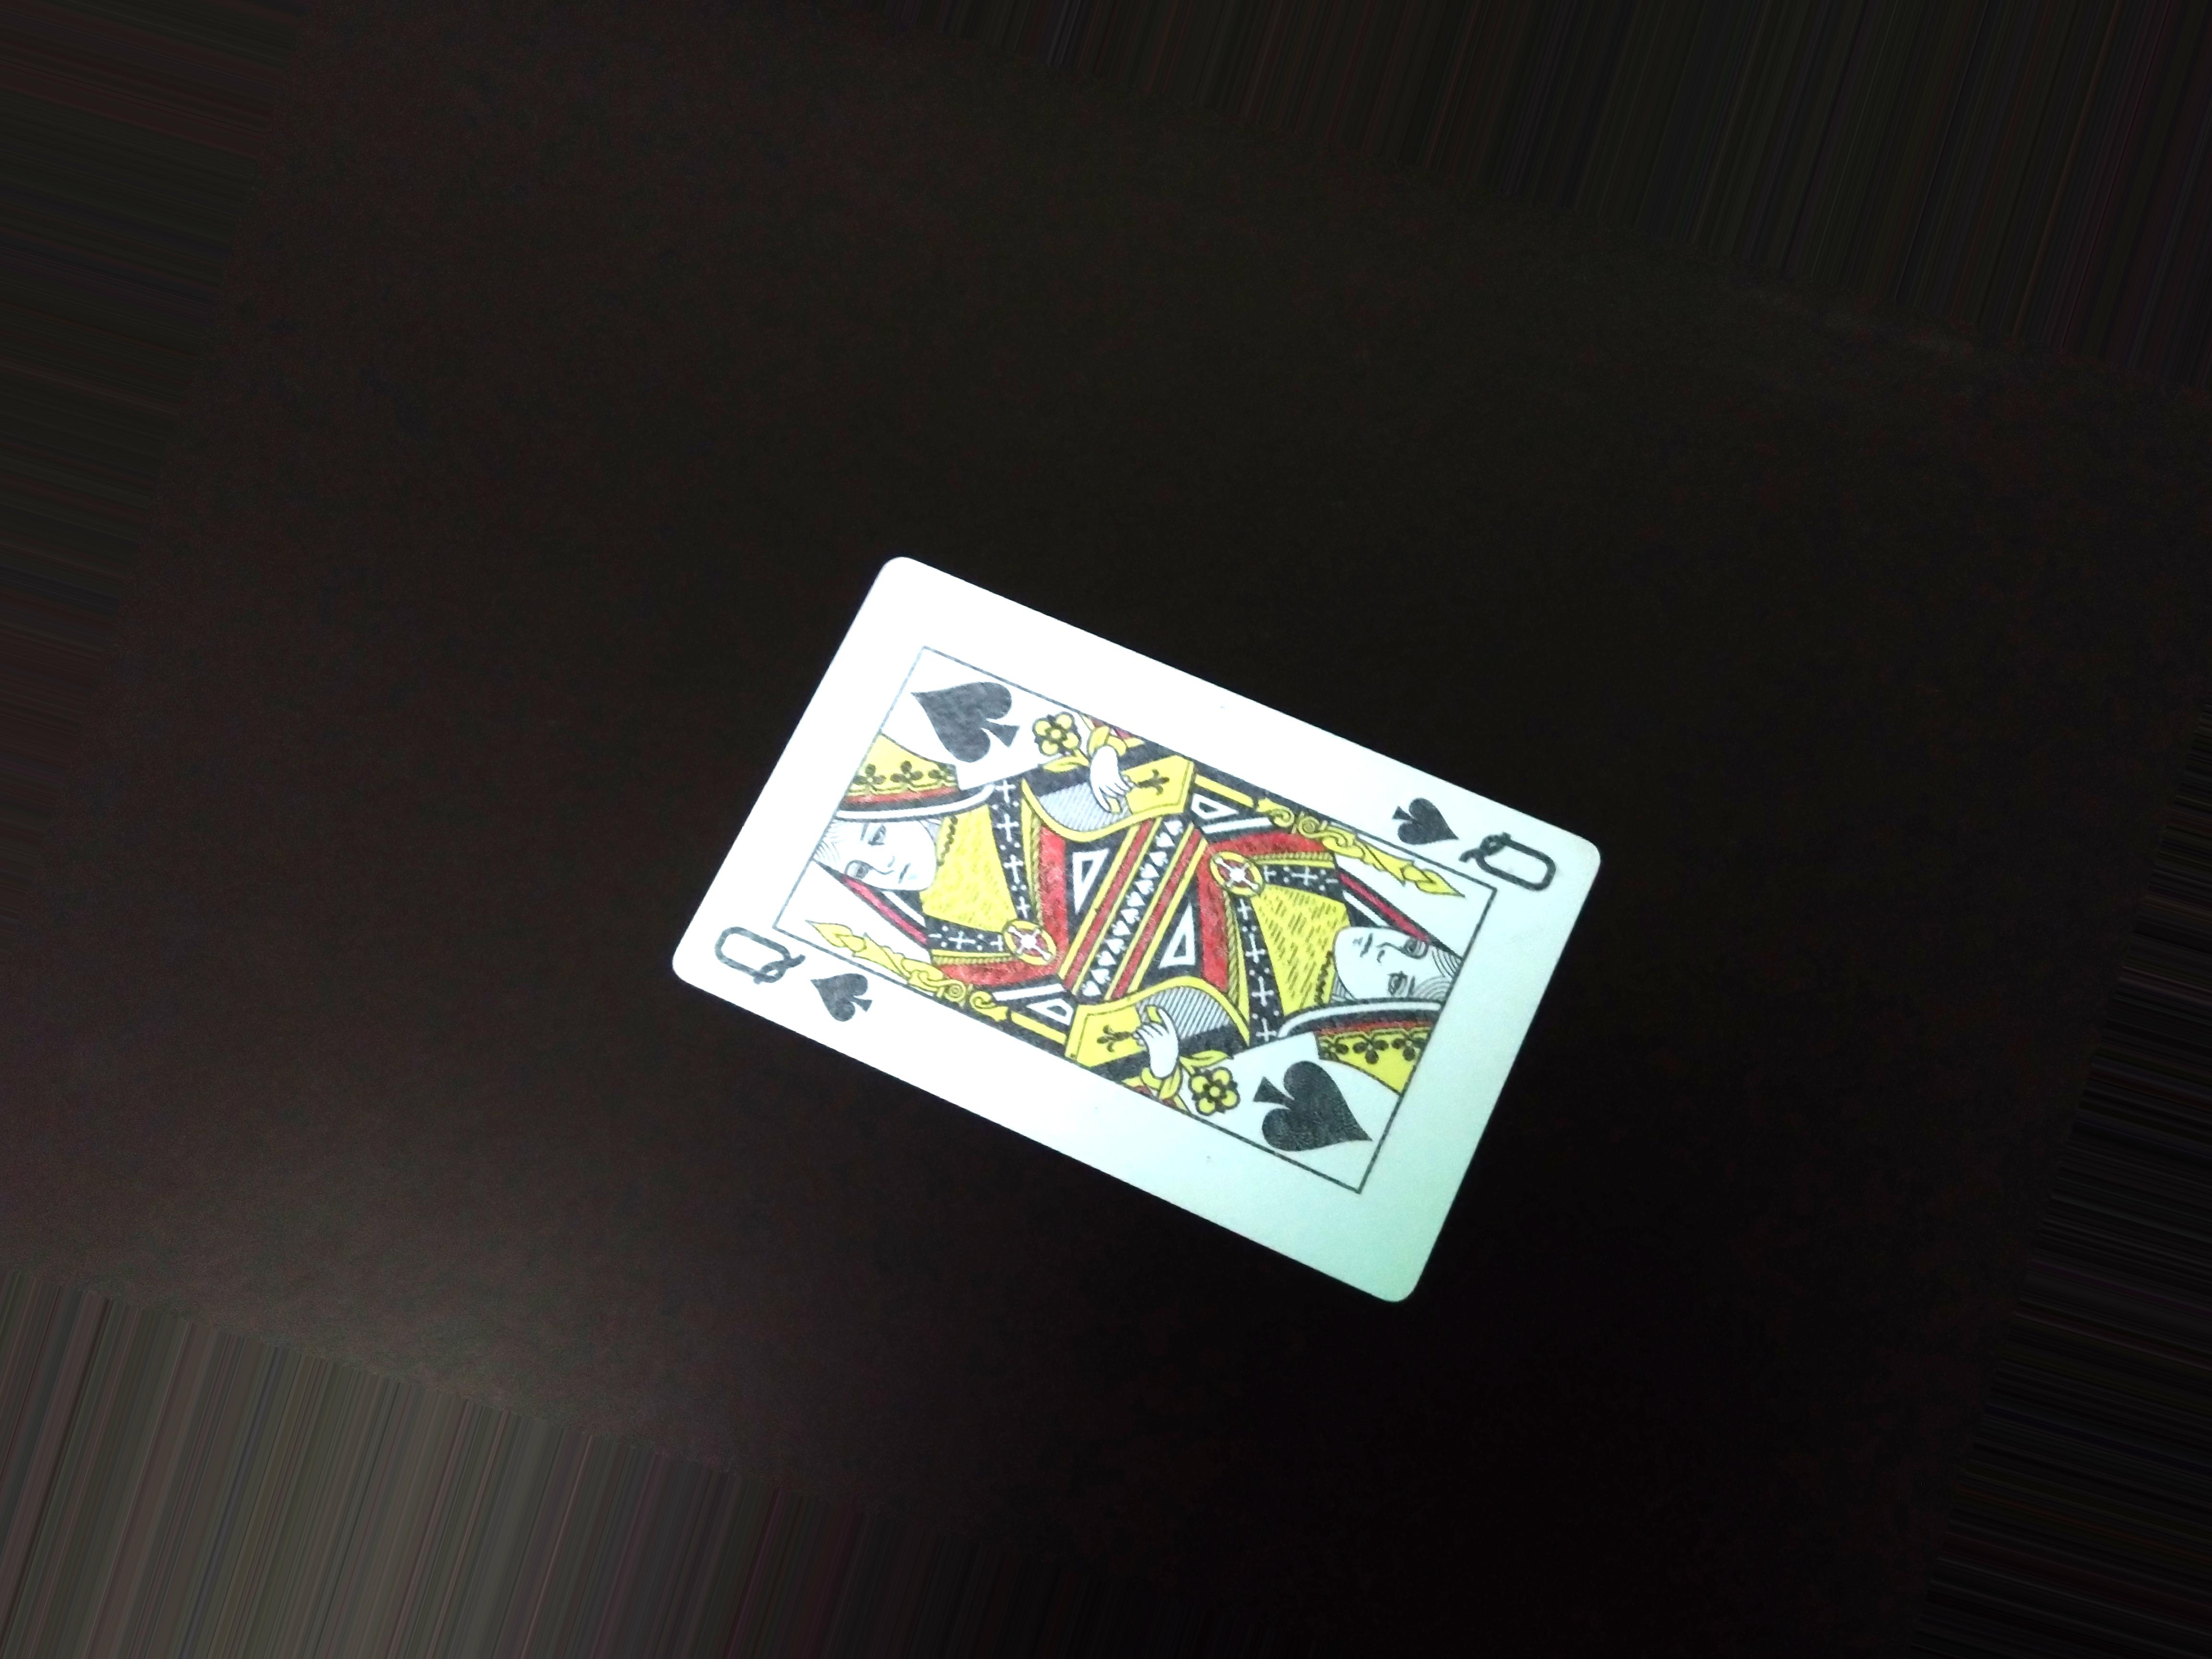QS: (698, 904, 897, 1028)
